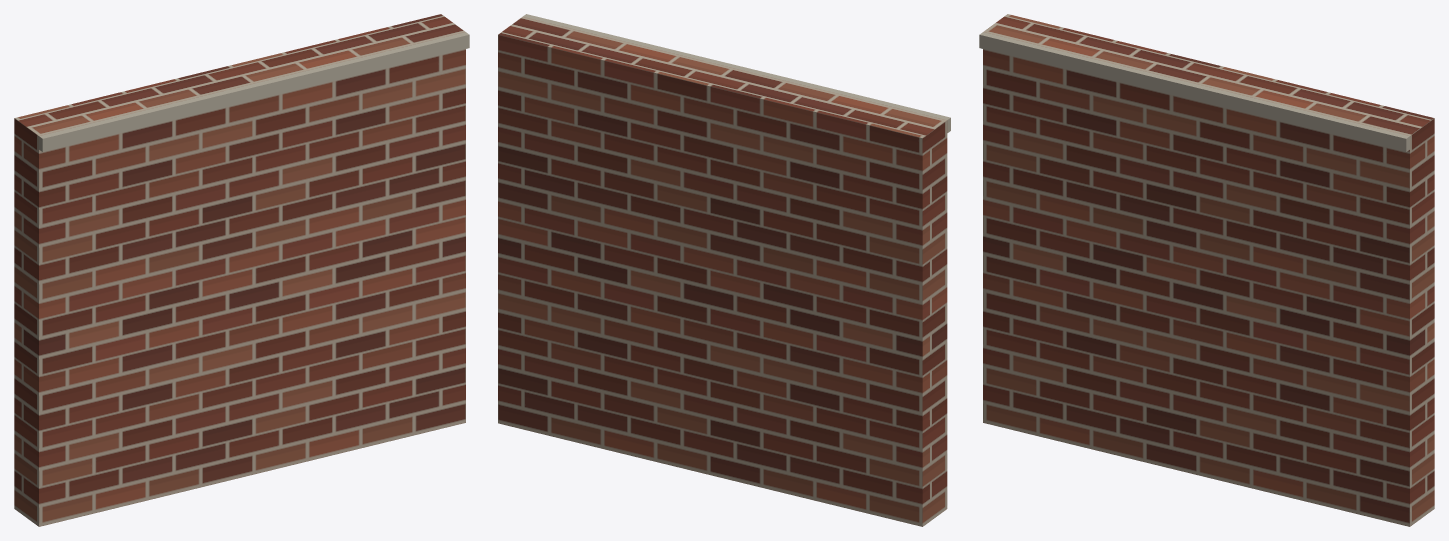
The model's file is ct_plain.glb.
The picture shows the model from 3 angles, left to right: view 1: azimuth 30°, elevation 25°; view 2: azimuth 150°, elevation 25°; view 3: azimuth 330°, elevation 25°; orthographic projection.
Parts seen in each view (by area): view 1: city_ct_plain; view 2: city_ct_plain; view 3: city_ct_plain.
Part boxes in pixels (x1,y1,x2,y2): city_ct_plain: (14, 14, 469, 526); city_ct_plain: (498, 14, 950, 526); city_ct_plain: (979, 14, 1434, 526).
Bounding box in the file's own units: 4 × 3.5 × 0.46.
Materials: 2 (2 with a texture image).
